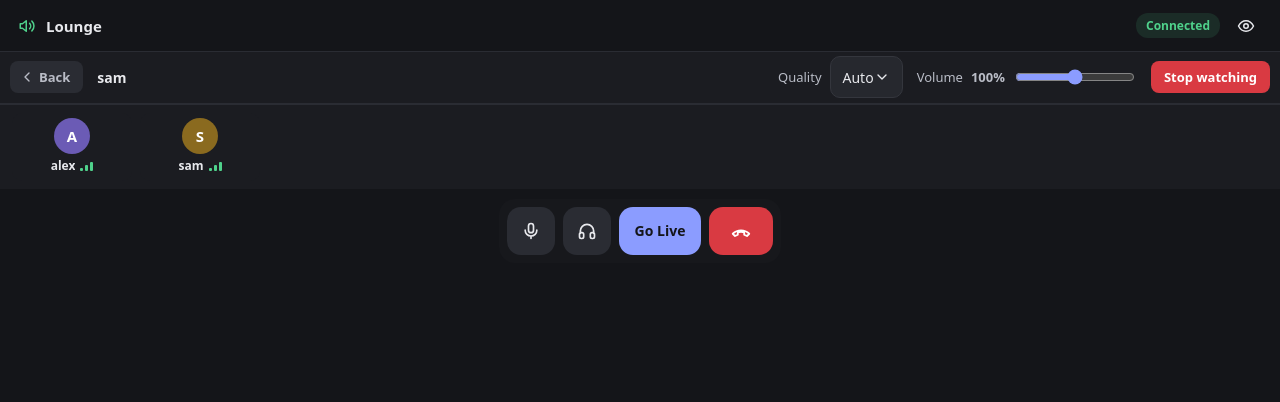
Test: full view › stop_watching_ends_the_watch_and_the_full_view
What coordinates should you click on to do the following:
click the button "Stop watching"
I would click on:
 (1210, 77)
Its box is [1151,61,1270,93].
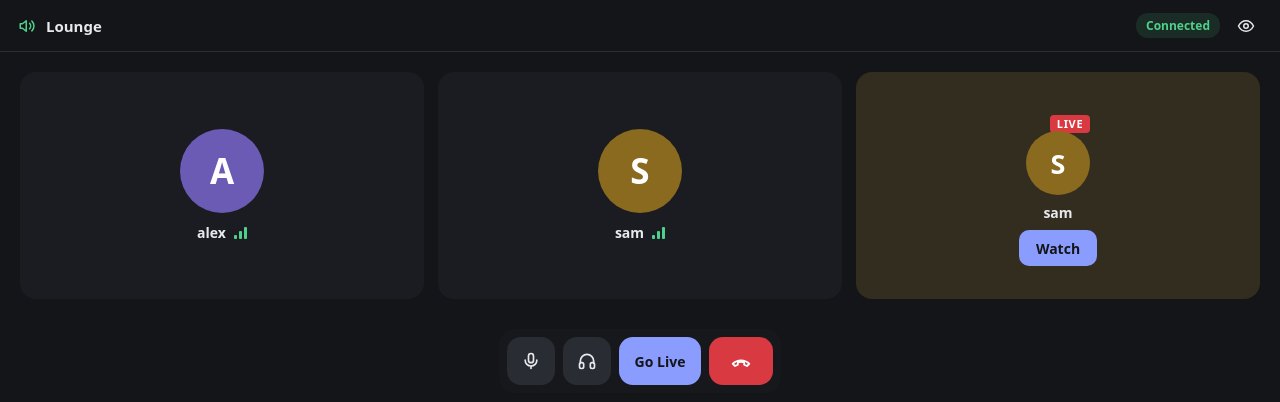
Expected: the element with class "full-view" is gone
